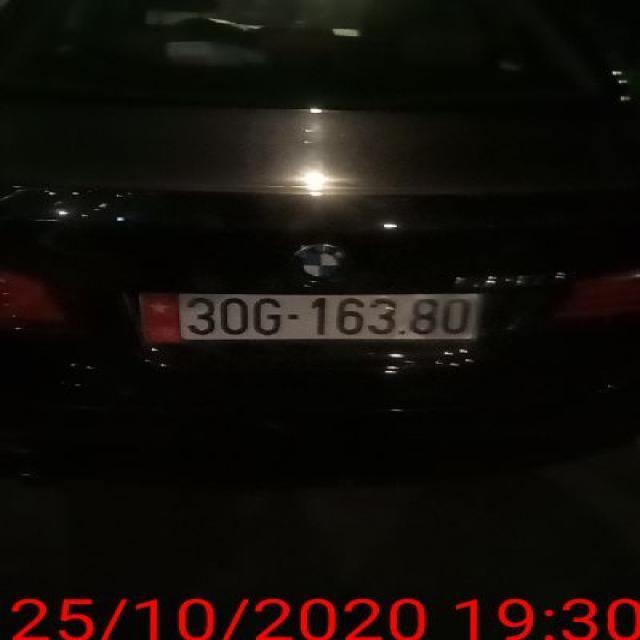bien_so_oto: (172, 284, 492, 349)
